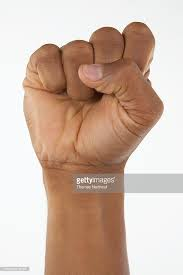fist: (18, 19, 167, 177)
